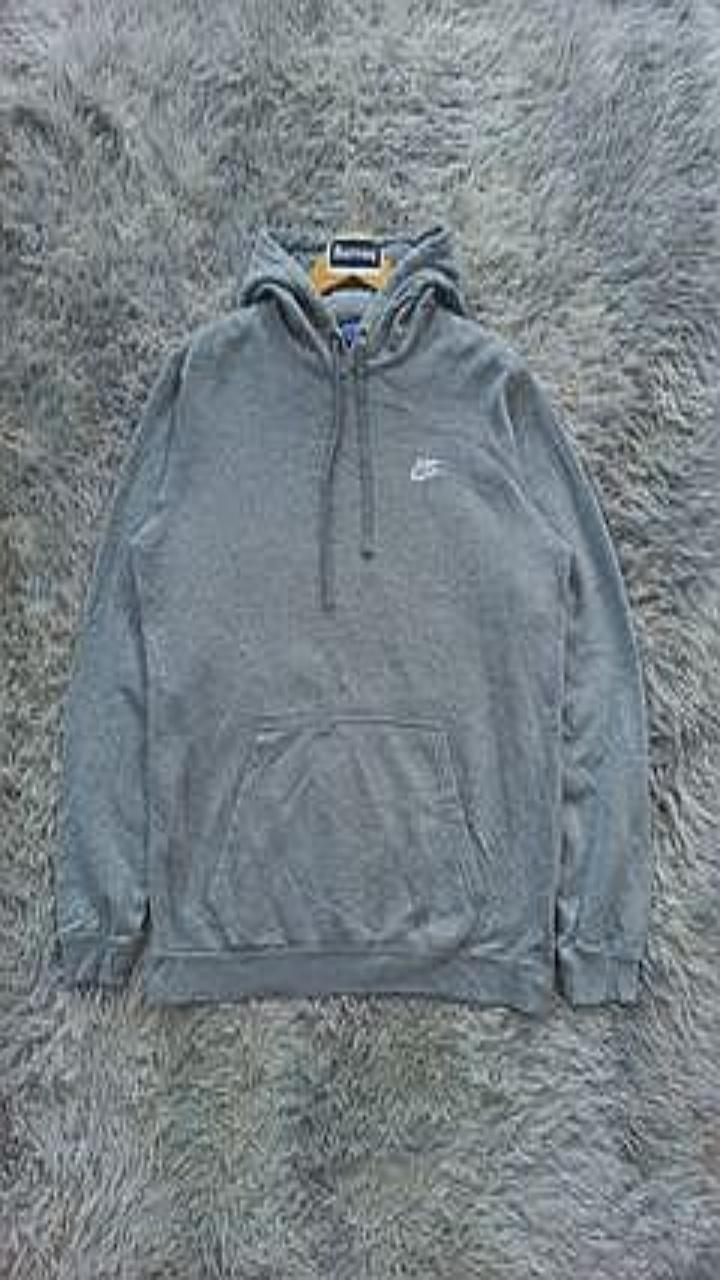Hoodie: (55, 223, 650, 1012)
